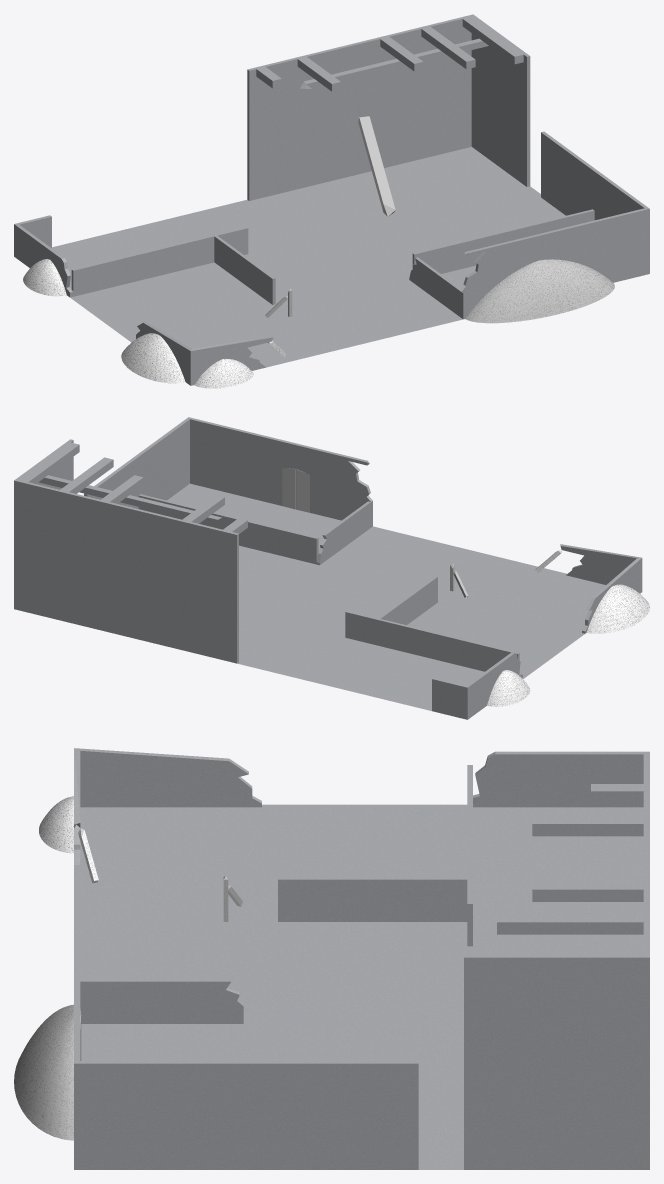
File: Apartment_Building.dae
The picture shows the model from 3 angles, top to bottom: view 1: azimuth 30°, elevation 25°; view 2: azimuth 150°, elevation 25°; view 3: azimuth 270°, elevation 25°; orthographic projection. The views are drawn at different scales.
Parts seen in each view (by area): view 1: SketchUp, group_7, group_3, group_5, group_0, group_6, group_8; view 2: SketchUp, group_3, group_5, group_7, group_8; view 3: SketchUp, group_3, group_7, group_6.
Boxes of the visible parts, x1,y1,x2,y2 form: SketchUp: (14,14,649,367); group_7: (465,259,614,323); group_3: (136,322,273,385); group_5: (121,333,185,383); group_0: (358,116,395,216); group_6: (194,358,253,388); group_8: (23,259,66,296); SketchUp: (14,417,605,719); group_3: (560,544,642,633); group_5: (586,584,649,633); group_7: (282,468,309,512); group_8: (487,670,530,706); SketchUp: (74,751,649,1169); group_3: (74,748,261,864); group_7: (14,1004,81,1140); group_6: (39,796,73,853).
Size of the model in its own units: 1884 by 1304 by 480.
